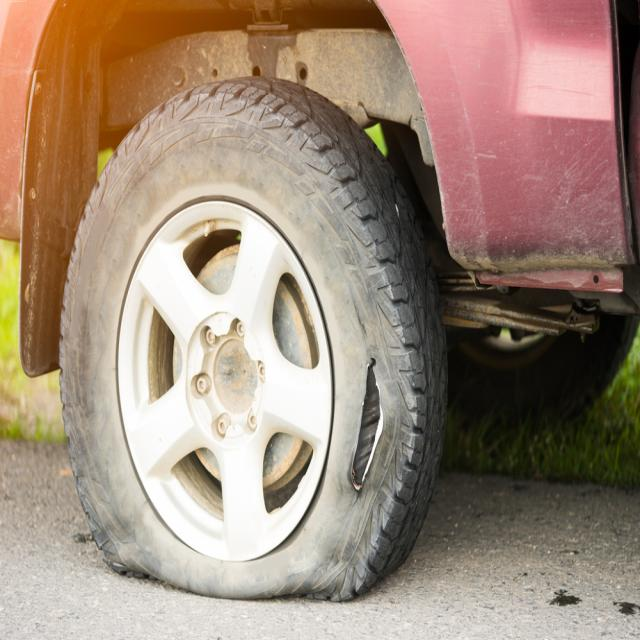tire flat: (57, 74, 452, 604)
